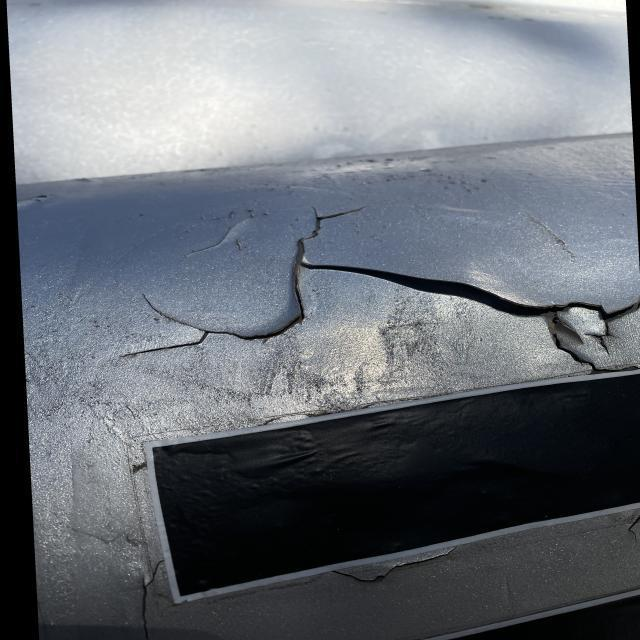crack: (295, 265, 640, 346), (128, 288, 281, 366), (281, 206, 363, 262)
